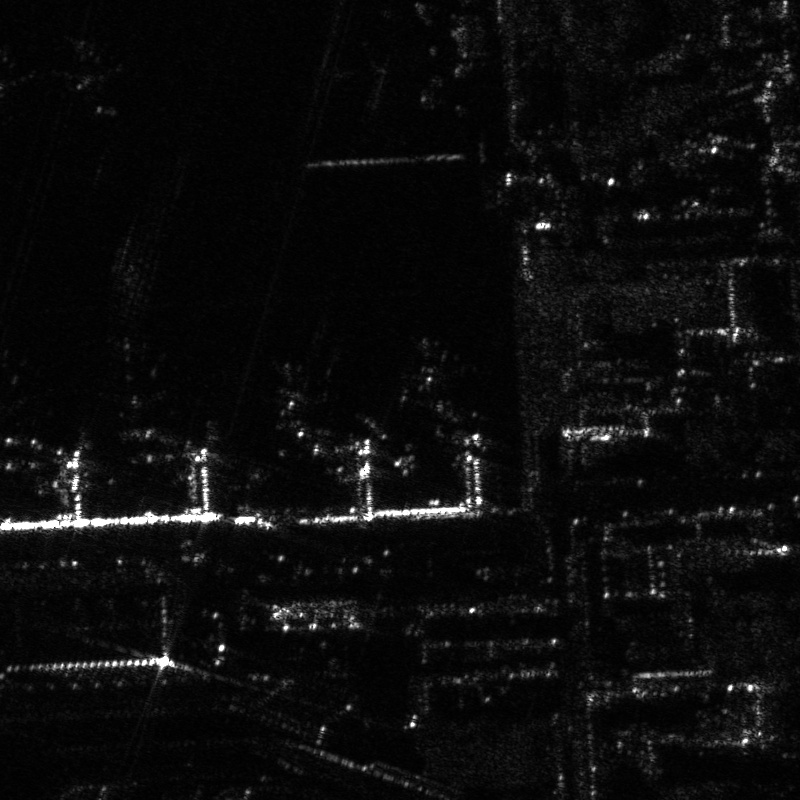A220: (386, 337, 479, 397), (50, 36, 130, 96)
Boeing787: (84, 339, 171, 439), (249, 353, 349, 417)
other: (311, 35, 397, 116), (1, 39, 40, 99)
